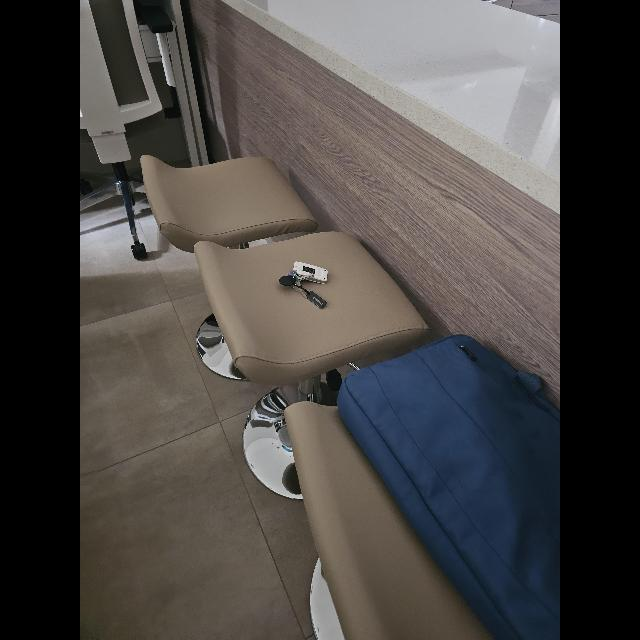Keys: (276, 262, 328, 312)
